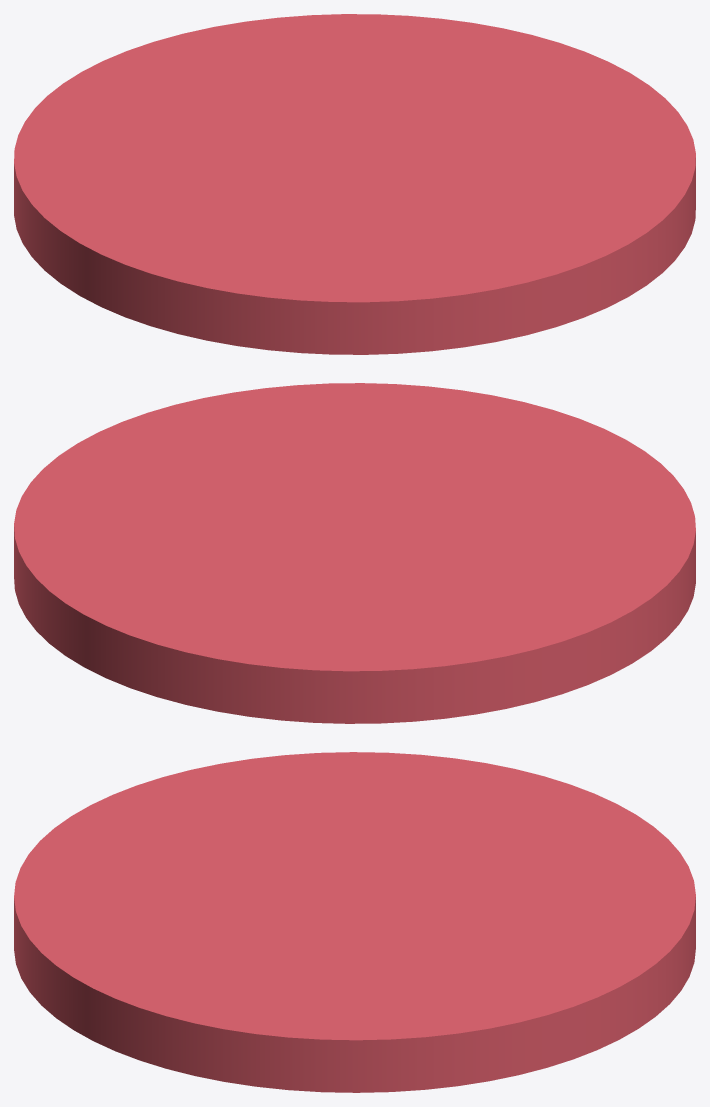
3 renders of one model, top to bottom at view 1: azimuth 30°, elevation 25°; view 2: azimuth 150°, elevation 25°; view 3: azimuth 270°, elevation 25°, orthographic.
Visible parts, largest first — view 1: Headset; view 2: Headset; view 3: Headset.
Boxes of the visible parts, box(x1,y1,x2,y2) form: Headset: box(14, 14, 695, 354); Headset: box(14, 383, 695, 723); Headset: box(14, 752, 695, 1092).
Bounding box in the file's own units: 298 × 25.4 × 298.
